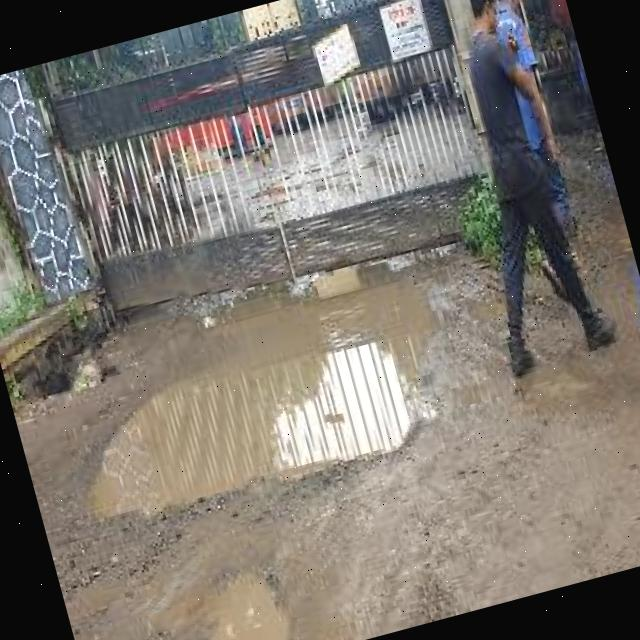stagnation: (57, 247, 474, 542)
